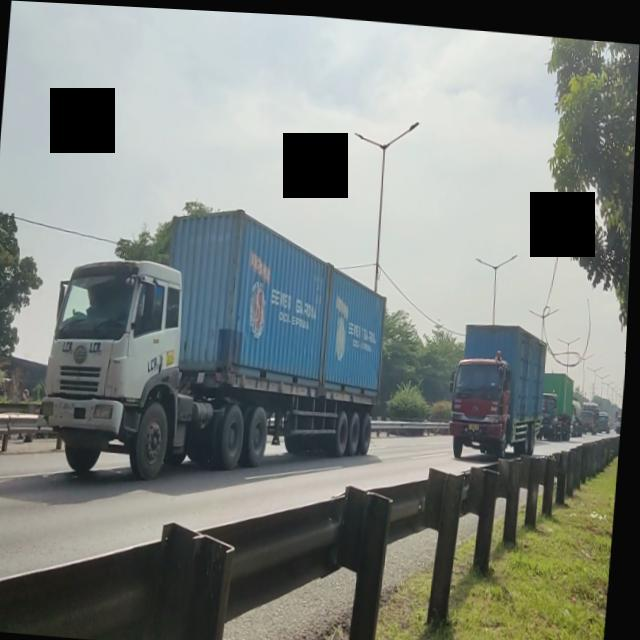Golongan V: (37, 222, 391, 486)
